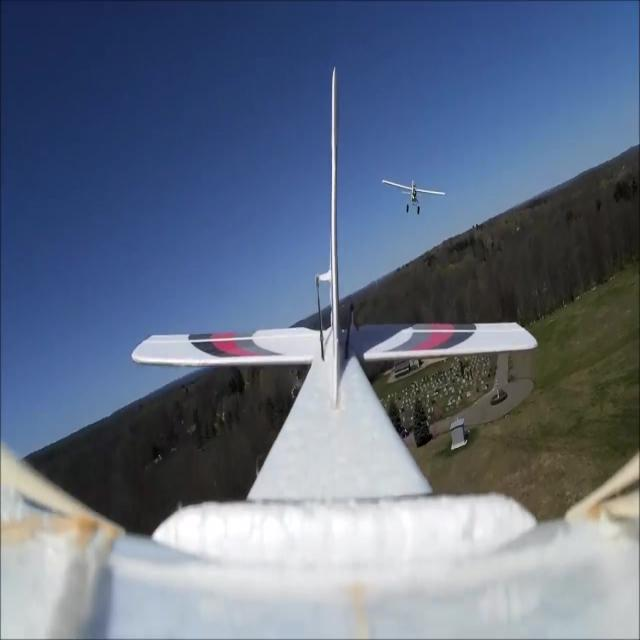iha: (412, 178, 414, 217)
